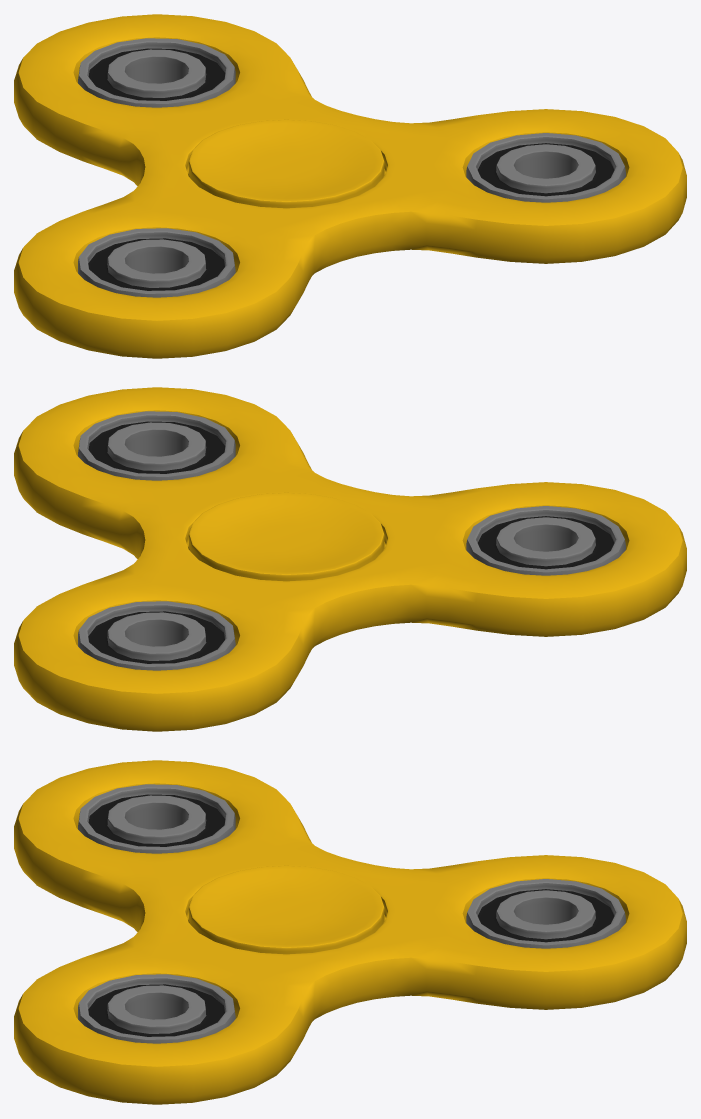
3 views of the same model, one above another, from view 1: azimuth 30°, elevation 25°; view 2: azimuth 150°, elevation 25°; view 3: azimuth 270°, elevation 25° (orthographic).
Visible parts, largest first — view 1: Disc, Cylinder_2, Cylinder_3, Cylinder_1; view 2: Disc, Cylinder_1, Cylinder_2, Cylinder_3; view 3: Disc, Cylinder_3, Cylinder_1, Cylinder_2.
Part boxes in pixels (<box>): Disc: <box>14,14,686,358</box>; Cylinder_2: <box>466,133,625,202</box>; Cylinder_3: <box>78,38,235,107</box>; Cylinder_1: <box>78,228,235,297</box>; Disc: <box>14,387,686,731</box>; Cylinder_1: <box>466,506,625,575</box>; Cylinder_2: <box>78,411,235,480</box>; Cylinder_3: <box>78,601,235,670</box>; Disc: <box>14,760,686,1104</box>; Cylinder_3: <box>466,879,625,948</box>; Cylinder_1: <box>78,784,235,853</box>; Cylinder_2: <box>78,974,235,1043</box>.
Bounding box in the file's own units: 399 × 31.2 × 366.
